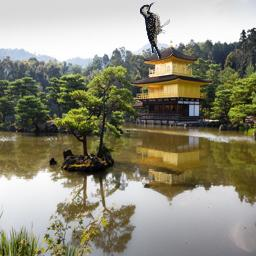Woodpecker: (139, 1, 170, 59)
